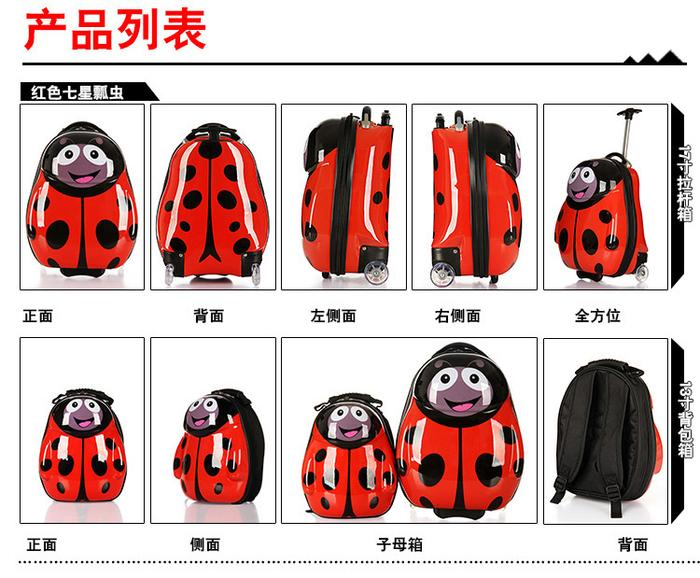luggage: (156, 119, 271, 285), (549, 354, 663, 521), (25, 121, 140, 279), (552, 106, 652, 283), (298, 107, 394, 284), (431, 110, 525, 287), (37, 387, 131, 505), (173, 387, 267, 505)
